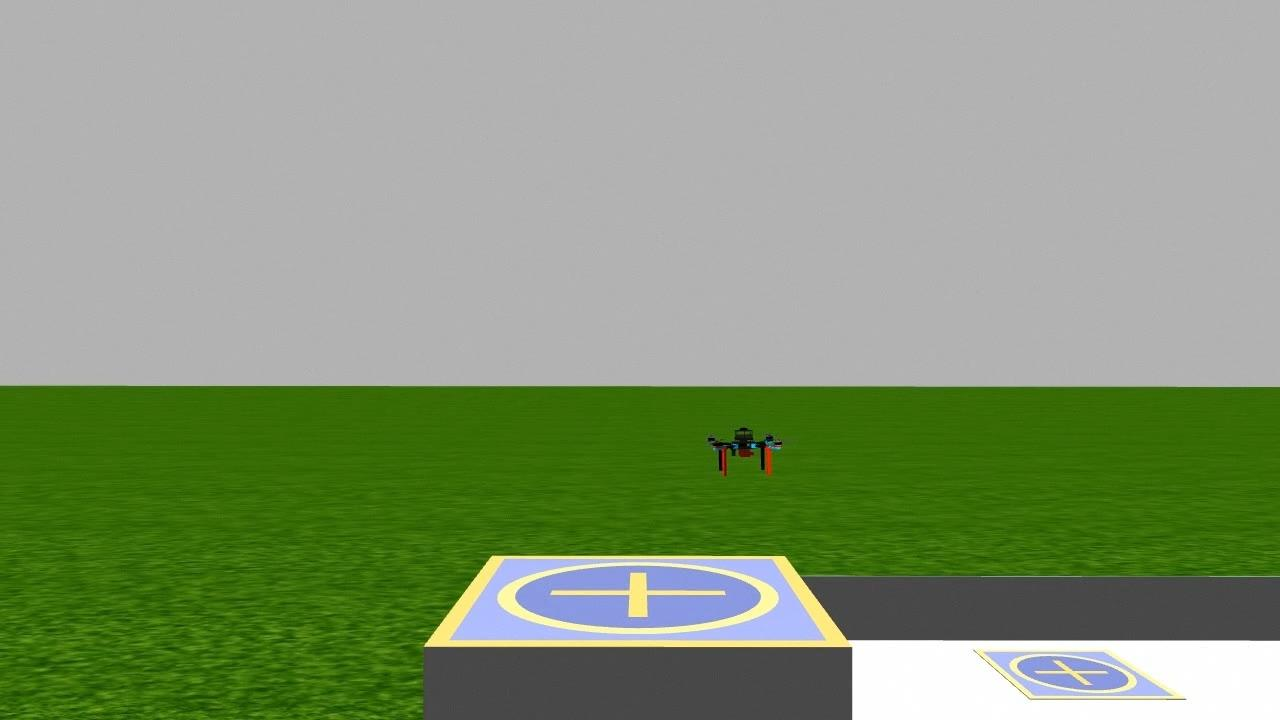UAV: (684, 413, 808, 485)
